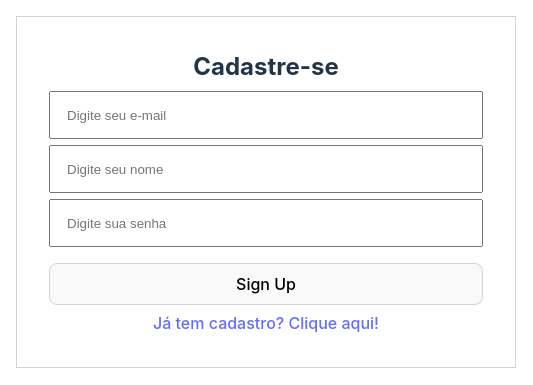
Test: Tests the SignUp page › should go to Login page when clicks on "Já tem cadastro?"
Click the link "Já tem cadastro? Clique aqui!".
click(266, 323)  # box [153, 313, 379, 333]
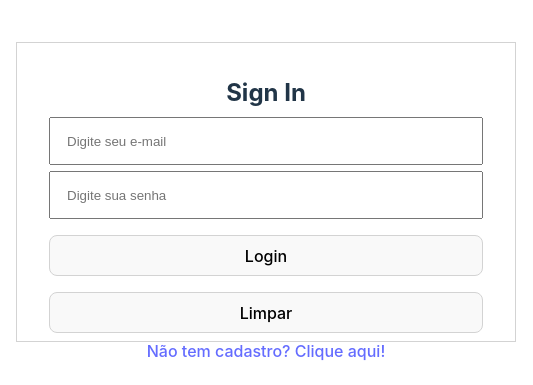
Now the button "Login" is shown, box [49, 235, 483, 276]
